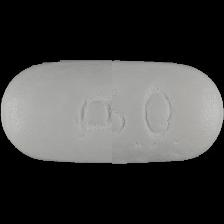0074-3064: (0, 0, 224, 224)
